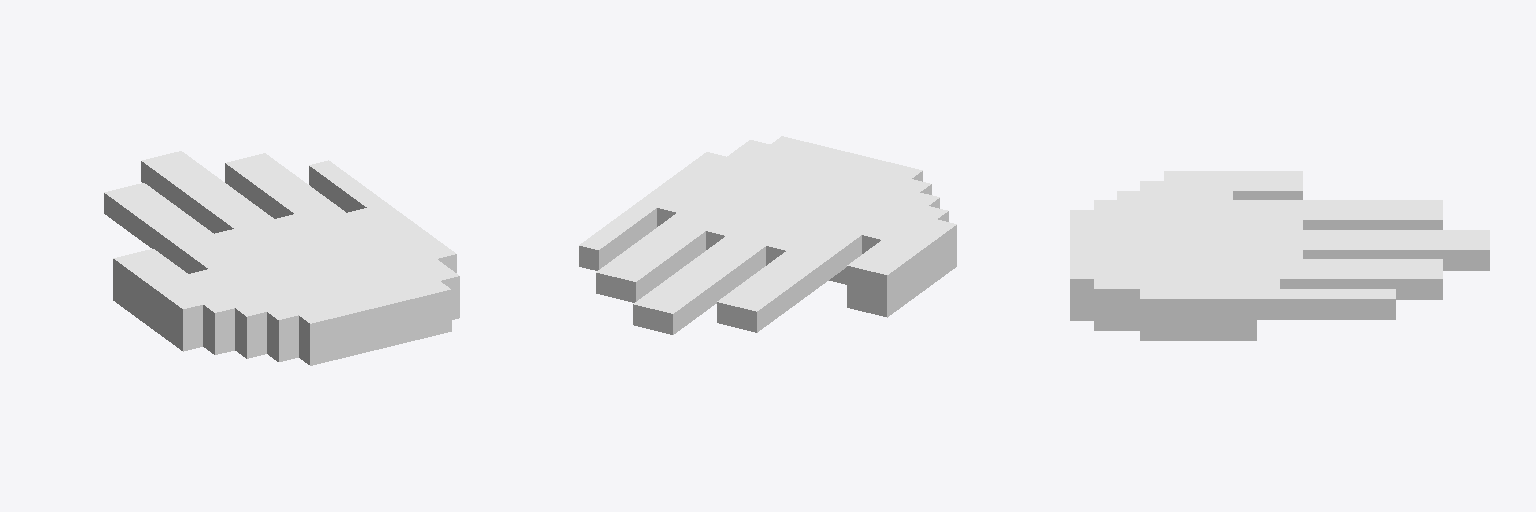
Rendered from pepar.obj.
3 renders of one model, left to right at view 1: azimuth 30°, elevation 25°; view 2: azimuth 150°, elevation 25°; view 3: azimuth 270°, elevation 25°, orthographic.
Parts seen in each view (by area): view 1: pepar; view 2: pepar; view 3: pepar.
Boxes of the visible parts, <box> form: pepar: <box>104,151,459,365</box>; pepar: <box>579,136,956,334</box>; pepar: <box>1070,171,1489,340</box>.
Size of the model in its own units: 13 by 2 by 18.